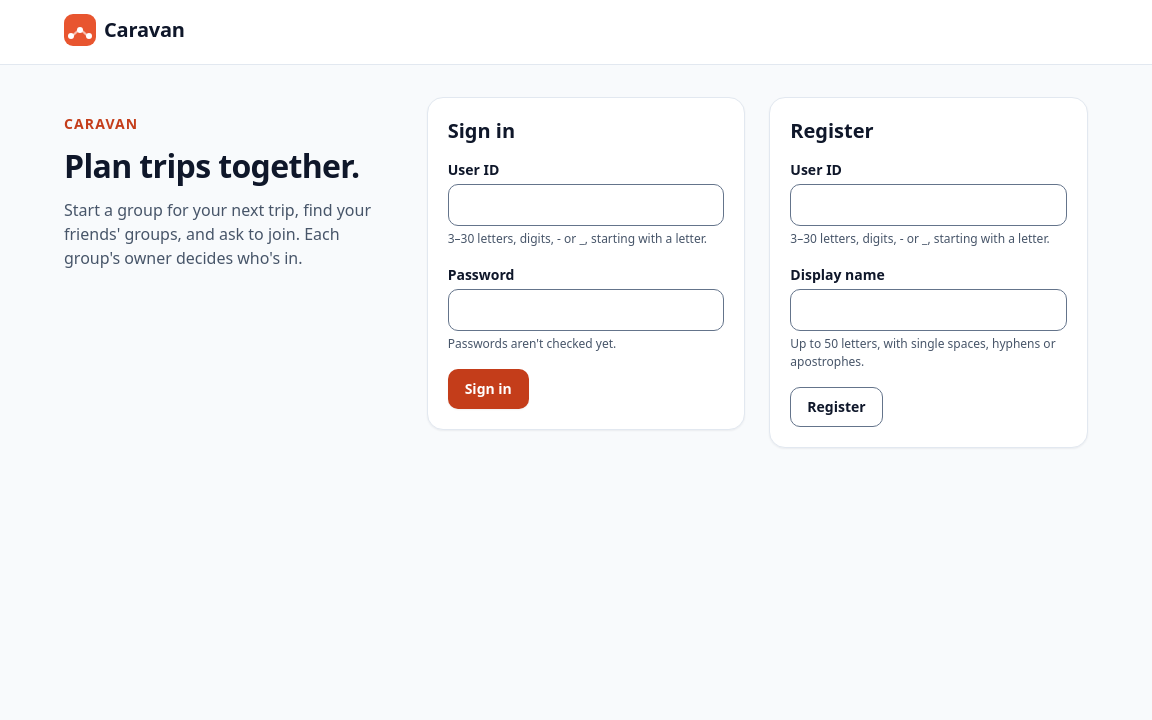
Test case: registering › checks 1ada / Ada before sending
The width and height of the screenshot is (1152, 720).
Expected: the heading "Sign in" is shown, [448,117,515,144]
Type "1ada" into the 2nd field labelled "User ID". click: (929, 205)
box: [790,184,1067,226]
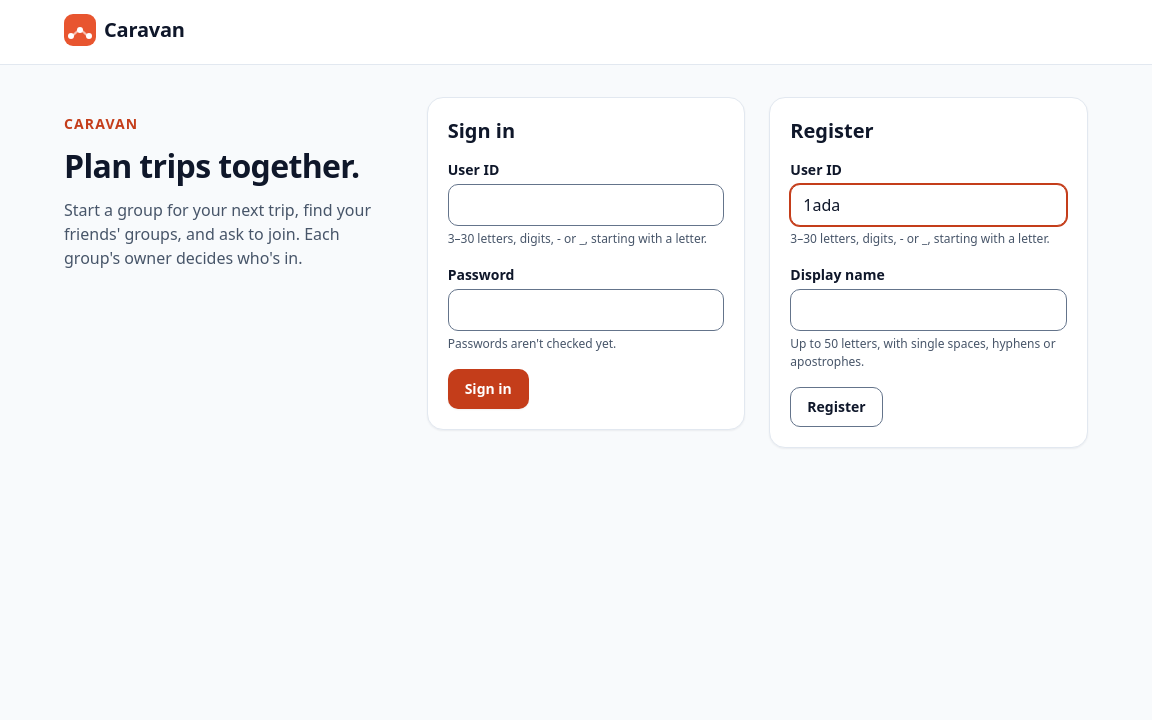
Type "Ada" into the field labelled "Display name". click: (929, 310)
box: [790,289,1067,331]
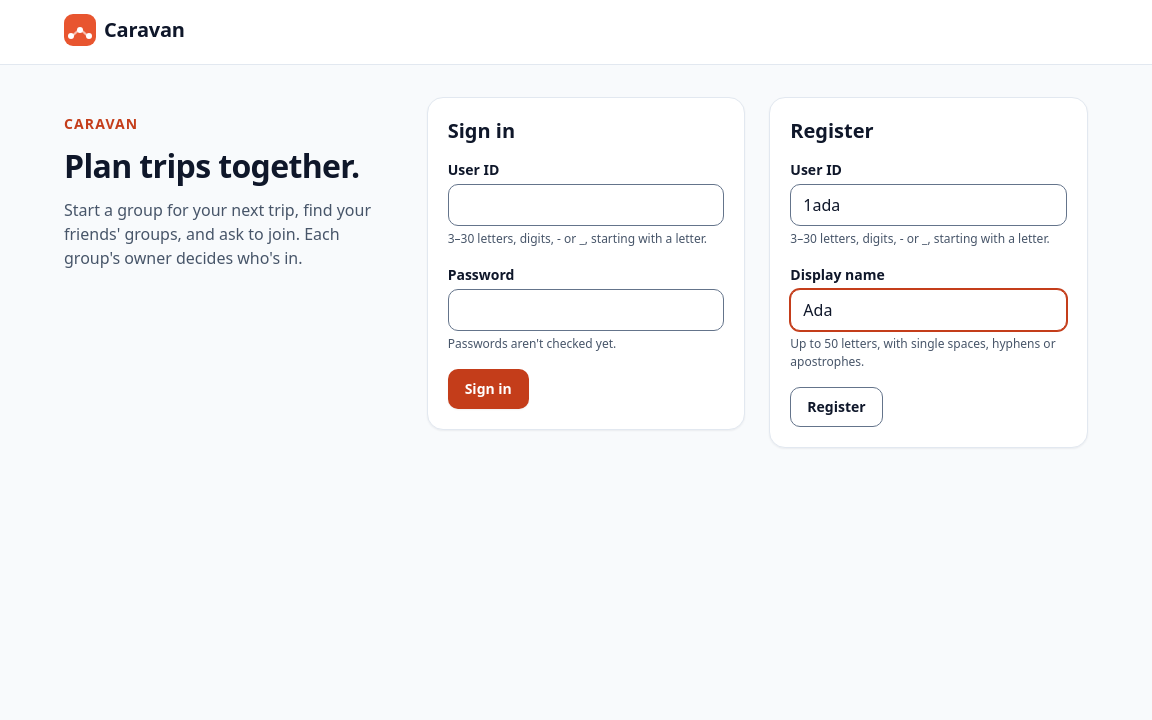
Click the button "Register". click: (836, 407)
box: [790,387,883,427]
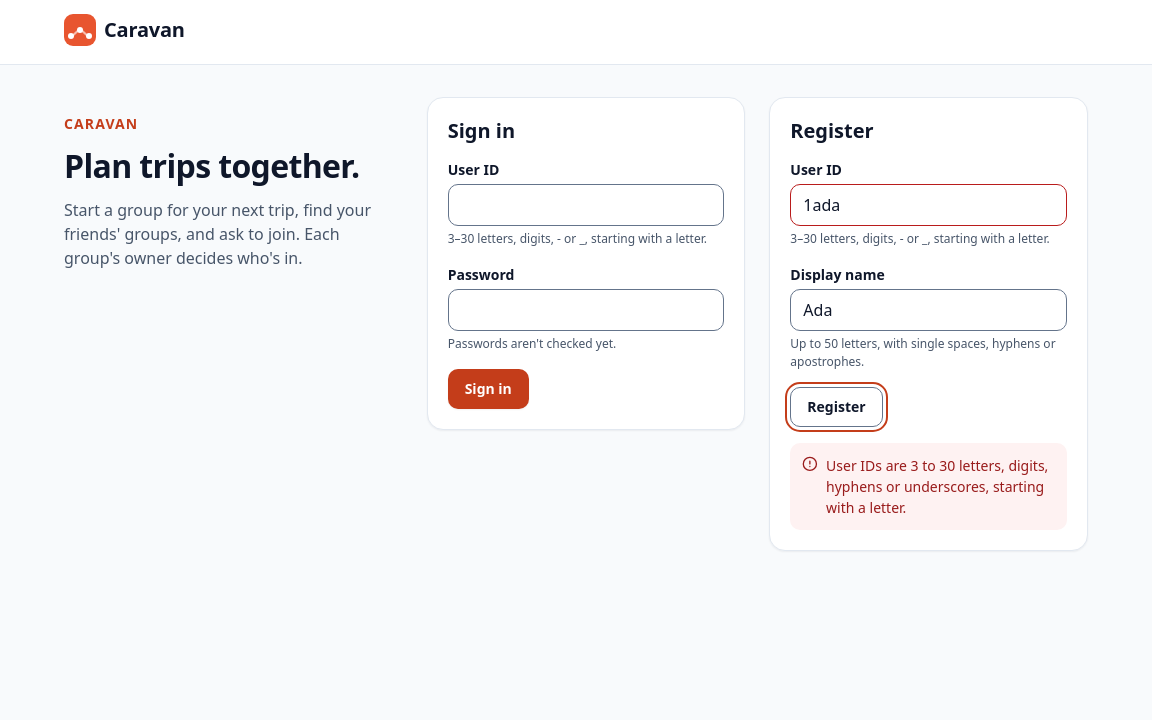
Now the message shows "User IDs are 3 to 30", box [826,456,1048,517]
